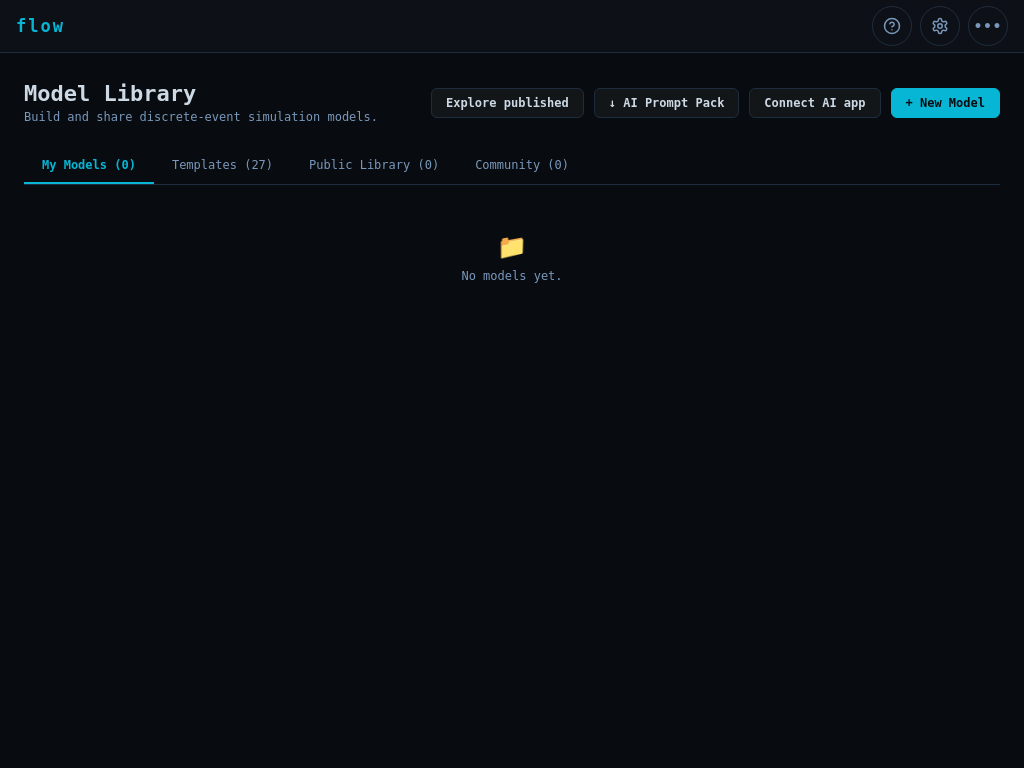
it: Community Gallery tab › shows fork dialog when opening another users public model from community
Expected: the heading "Model Library" is shown, [24,81,196,106]
Click the tab "Community (0)": click(522, 166) [457,148,587,184]
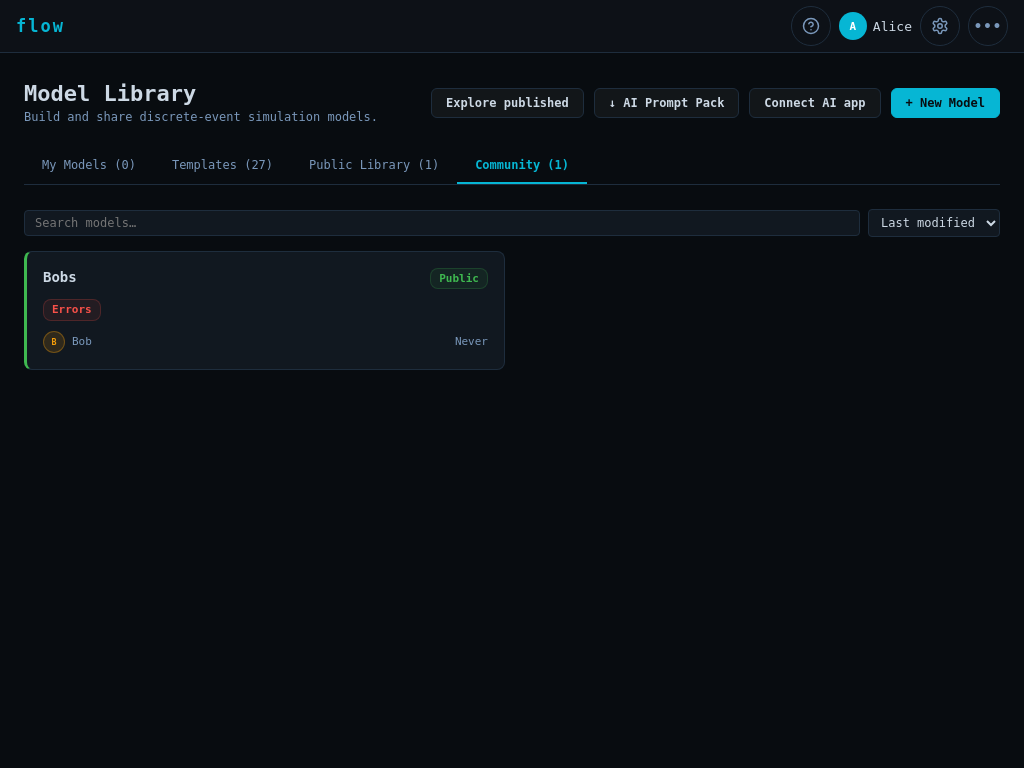
Click the button with aria-label "open model bobs": click(60, 277) [24,251,505,370]
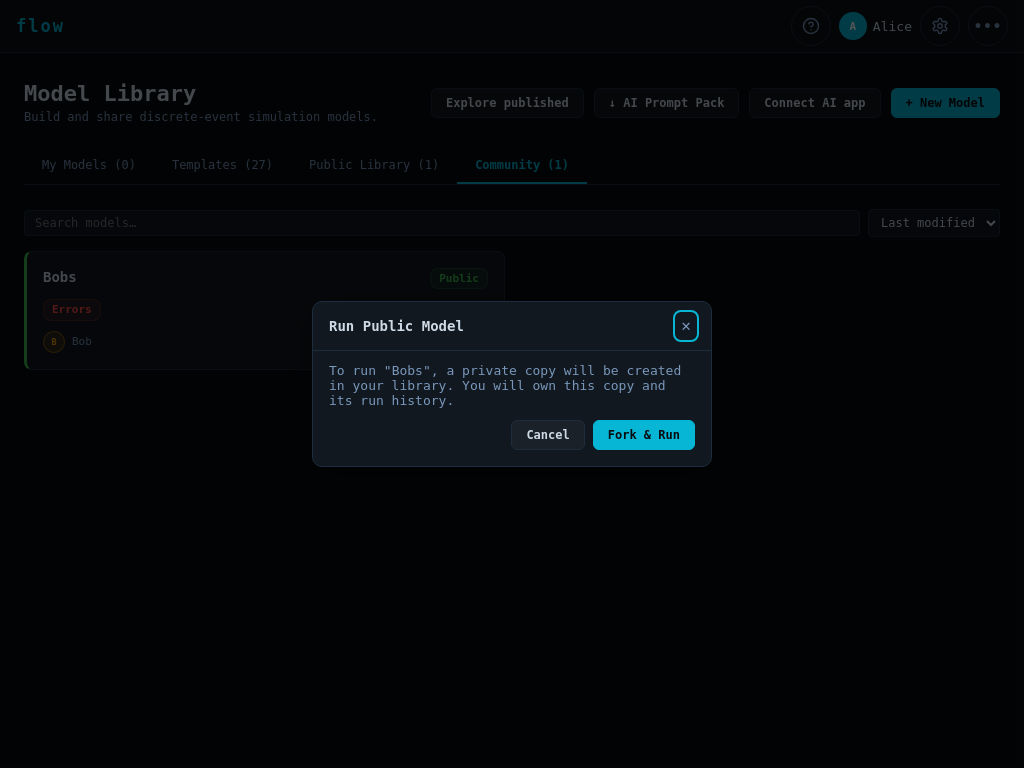
Result: the dialog is shown at [312,301,712,467]
Result: the text "Run Public Model" is shown at [329,318,464,334]
